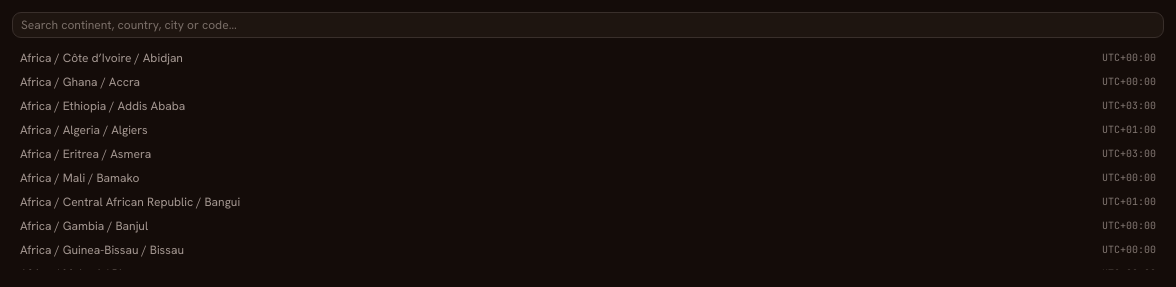
Scenario: ZoneSearchList › leaves out zones already chosen
Type "tokyo" into the field named "Filter timezones" at (588, 25), box [12,12,1164,38]
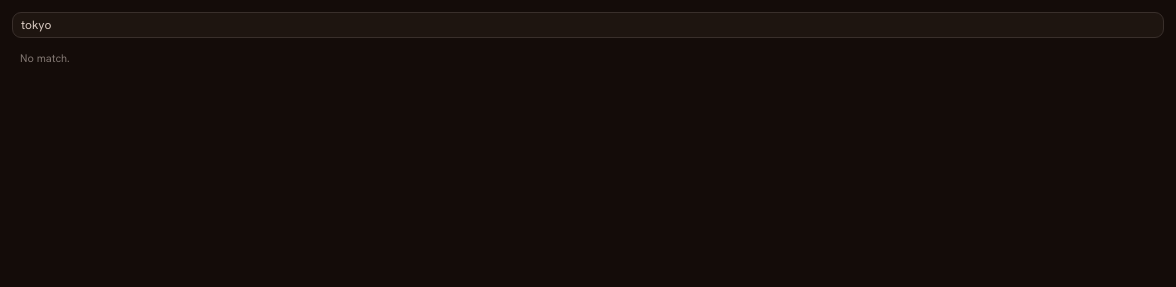
Expected: the list item "No match." is shown, [20,51,70,65]
